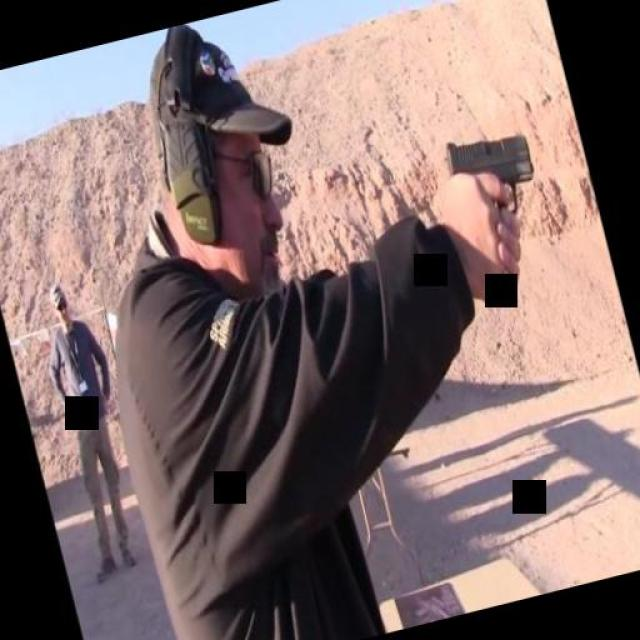gun: (439, 120, 569, 306)
